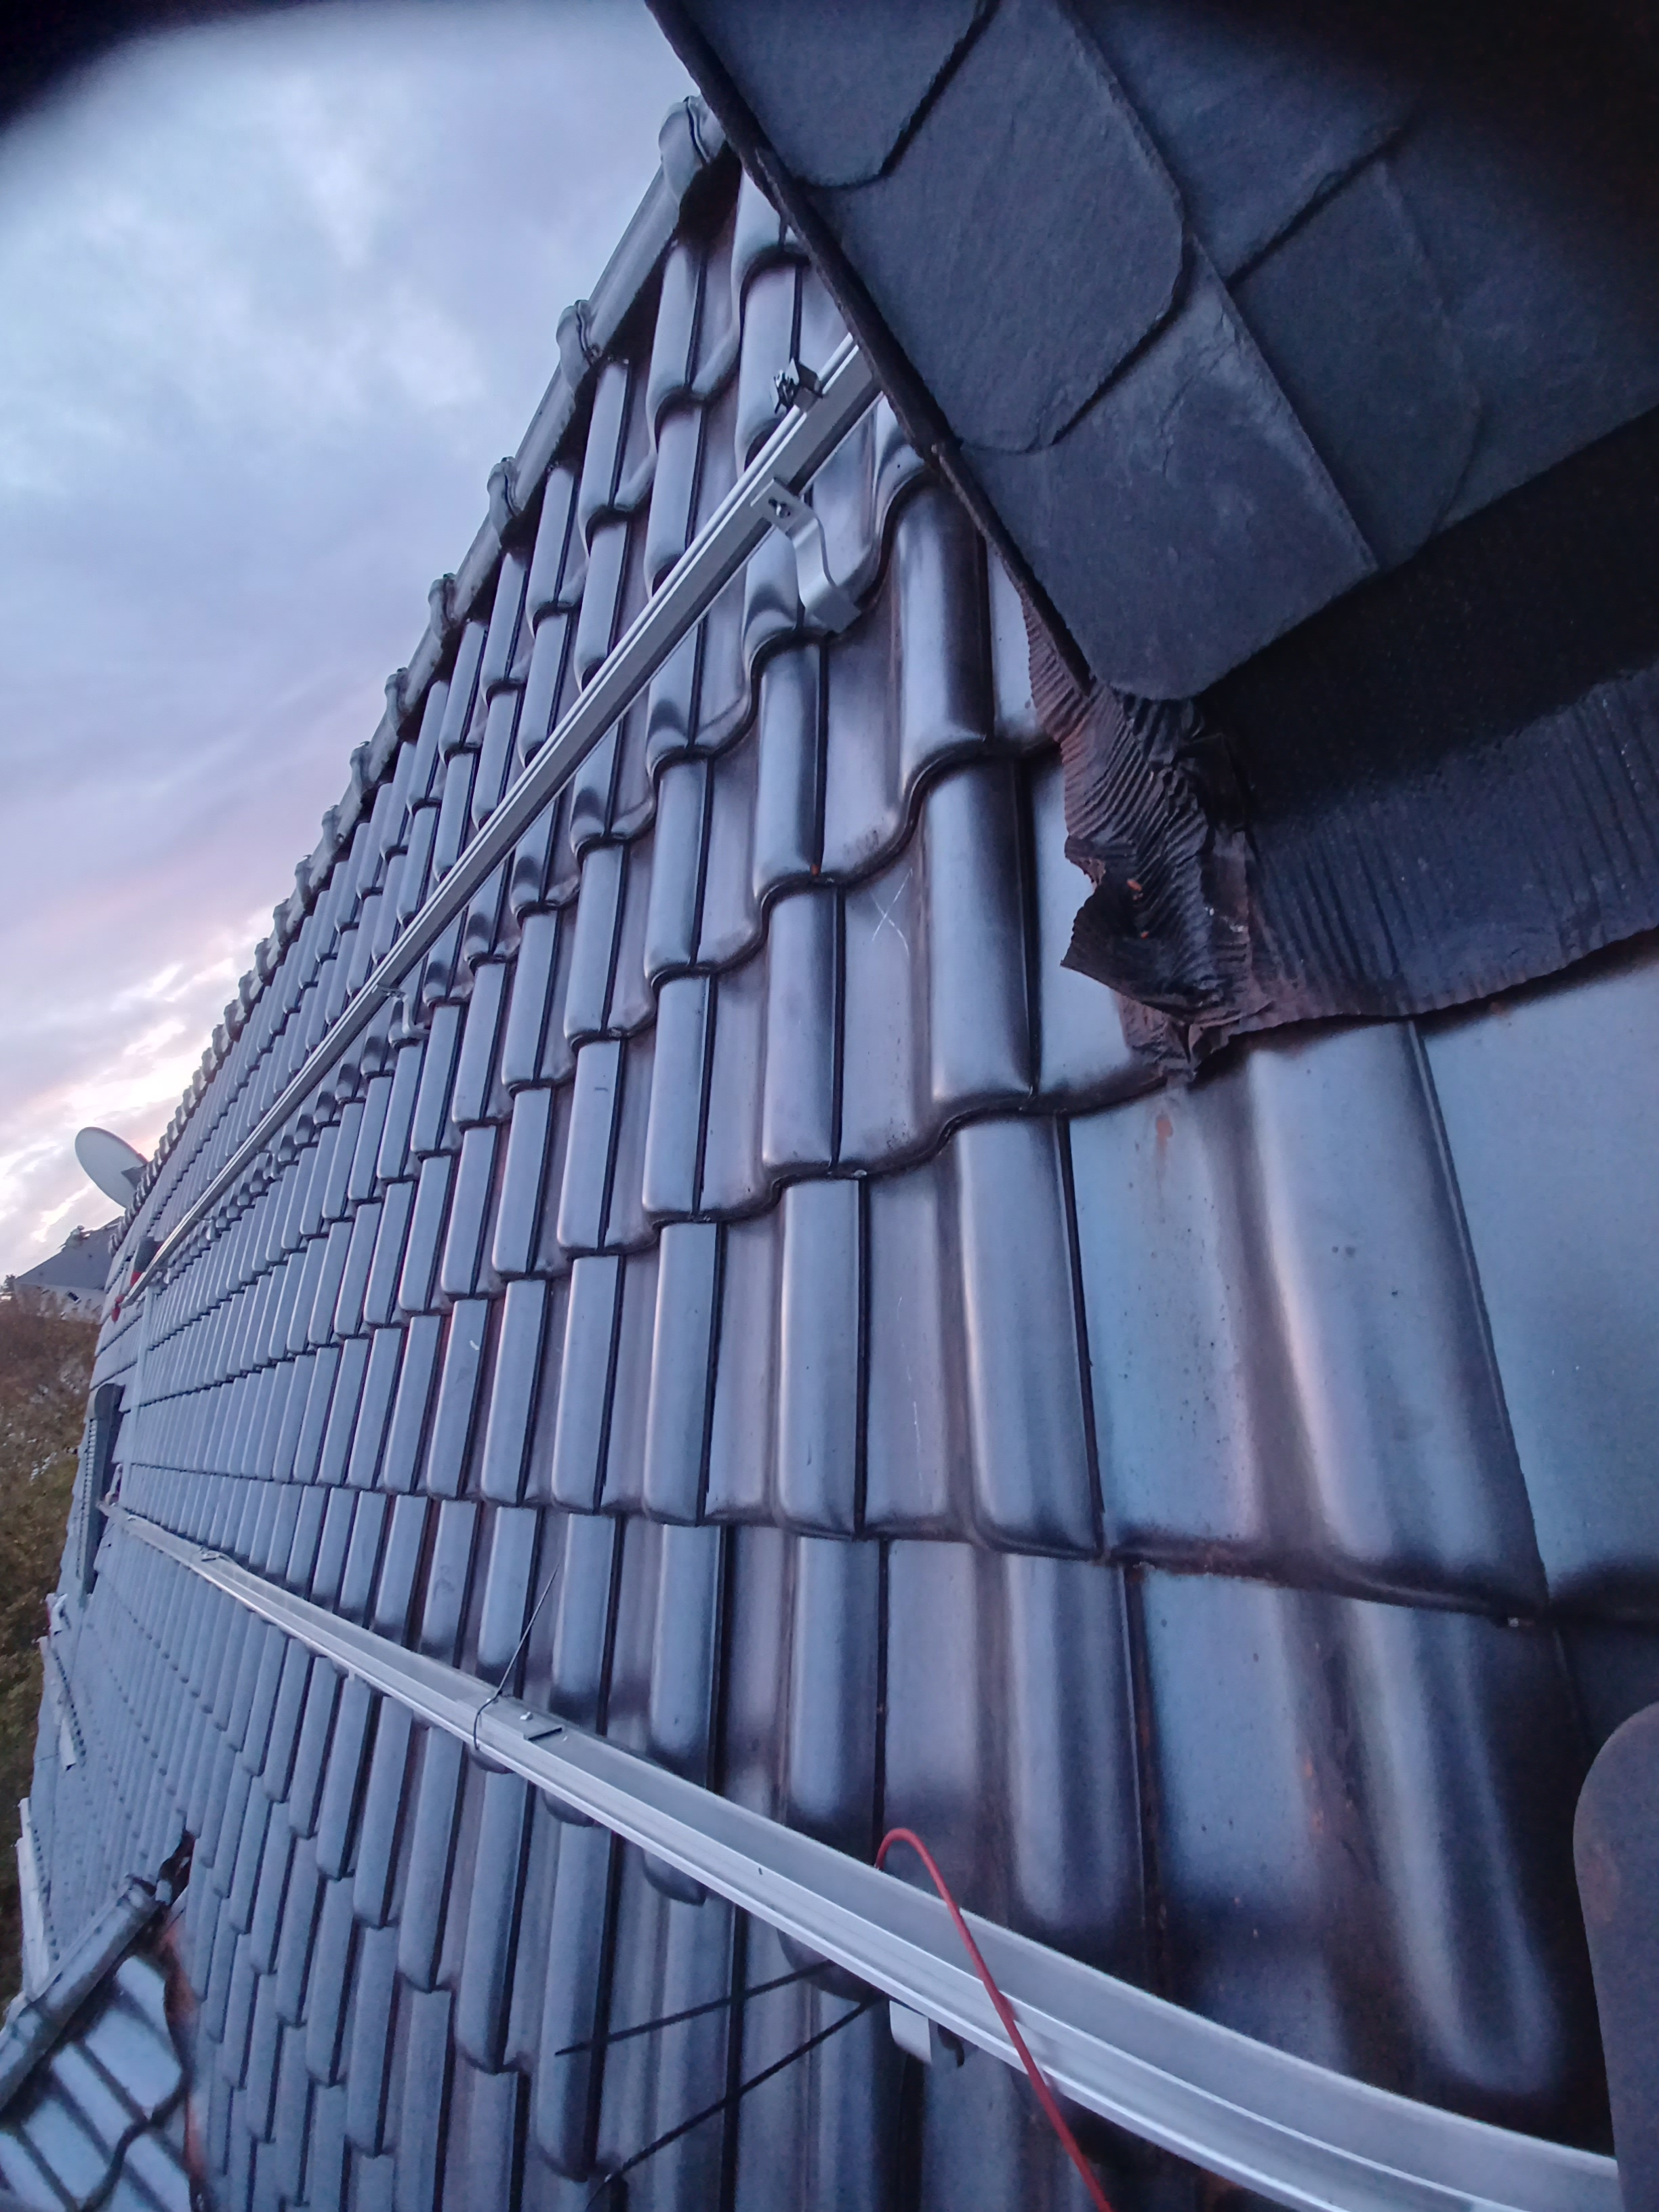hook: (749, 477, 861, 636), (889, 1996, 978, 2071), (371, 984, 430, 1040), (254, 1150, 284, 1181), (192, 1216, 221, 1242), (153, 1264, 171, 1285)
